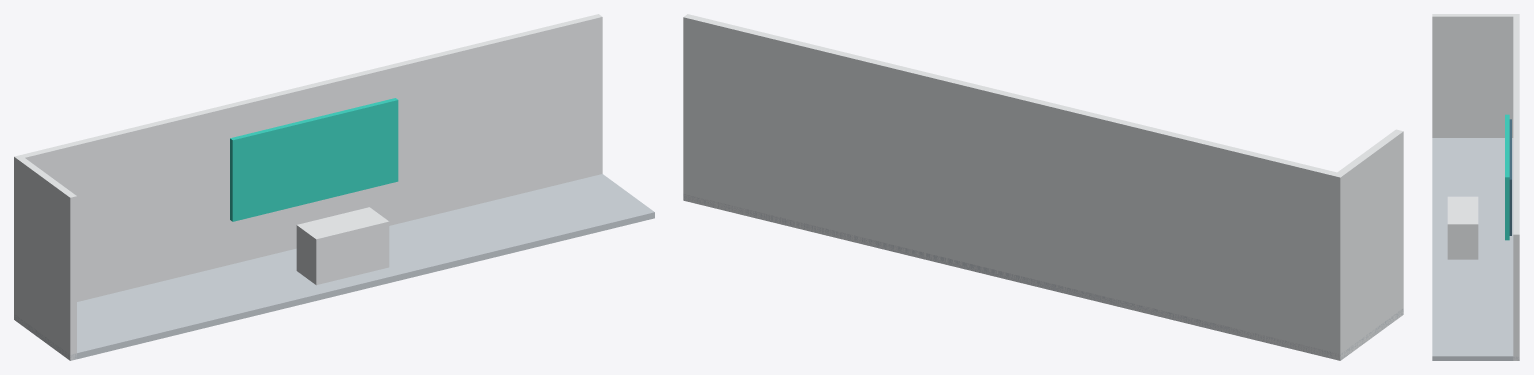
The picture shows the model from 3 angles, left to right: view 1: azimuth 30°, elevation 25°; view 2: azimuth 150°, elevation 25°; view 3: azimuth 270°, elevation 25°; orthographic projection. The views are drawn at different scales.
Visible parts, largest first — view 1: Exhibition Booth Concept; view 2: Exhibition Booth Concept; view 3: Exhibition Booth Concept.
Boxes of the visible parts, bbox=[...] form: Exhibition Booth Concept: bbox=[14, 14, 654, 360]; Exhibition Booth Concept: bbox=[683, 14, 1403, 360]; Exhibition Booth Concept: bbox=[1432, 14, 1519, 360].
Size of the model in its own units: 12 by 3.2 by 2.
